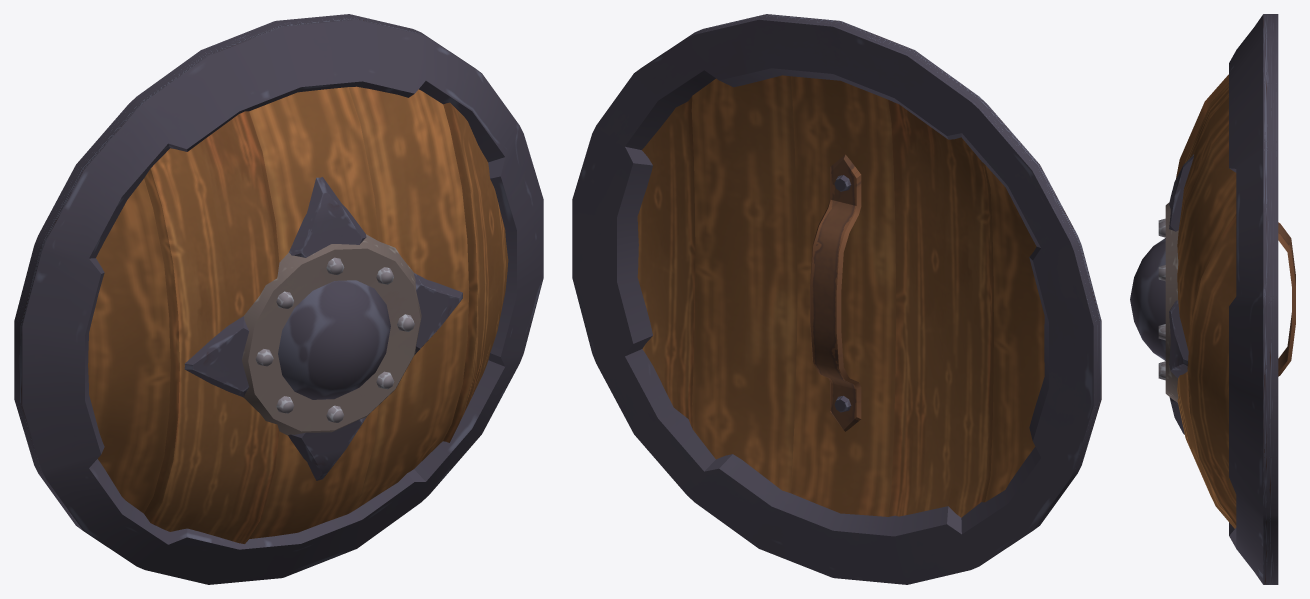
File: Shield_Wooden.gltf
The picture shows the model from 3 angles, left to right: view 1: azimuth 30°, elevation 25°; view 2: azimuth 150°, elevation 25°; view 3: azimuth 270°, elevation 25°; orthographic projection. The views are drawn at different scales.
Visible parts, largest first — view 1: Shield_Wooden; view 2: Shield_Wooden; view 3: Shield_Wooden.
Boxes of the visible parts, x1,y1,x2,y2 form: Shield_Wooden: (14,14,543,584); Shield_Wooden: (572,14,1101,584); Shield_Wooden: (1130,14,1295,584).
Size of the model in its own units: 0.6146 by 0.6209 by 0.1788.
Materials: 3 (3 with a texture image).
